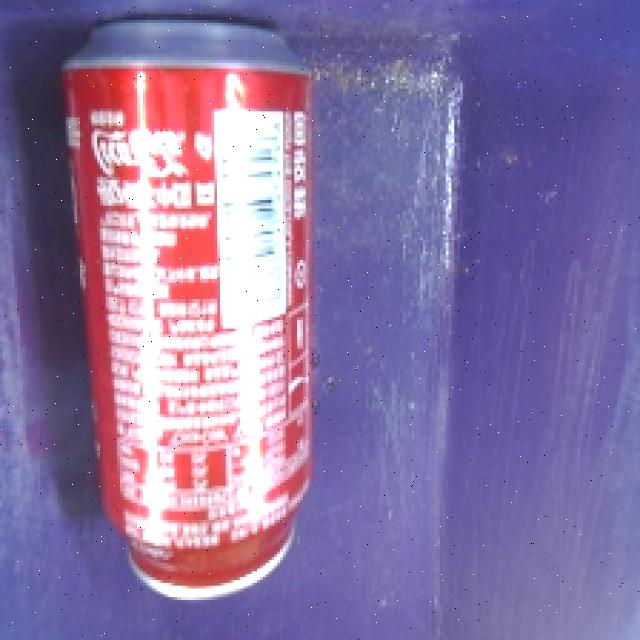metal: (32, 11, 327, 614)
